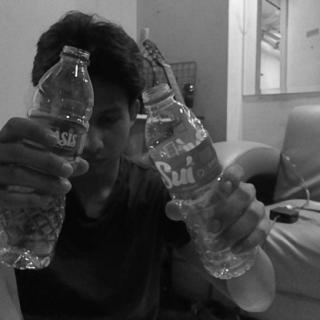plastic_bottles: (139, 80, 258, 274), (3, 45, 96, 268)
